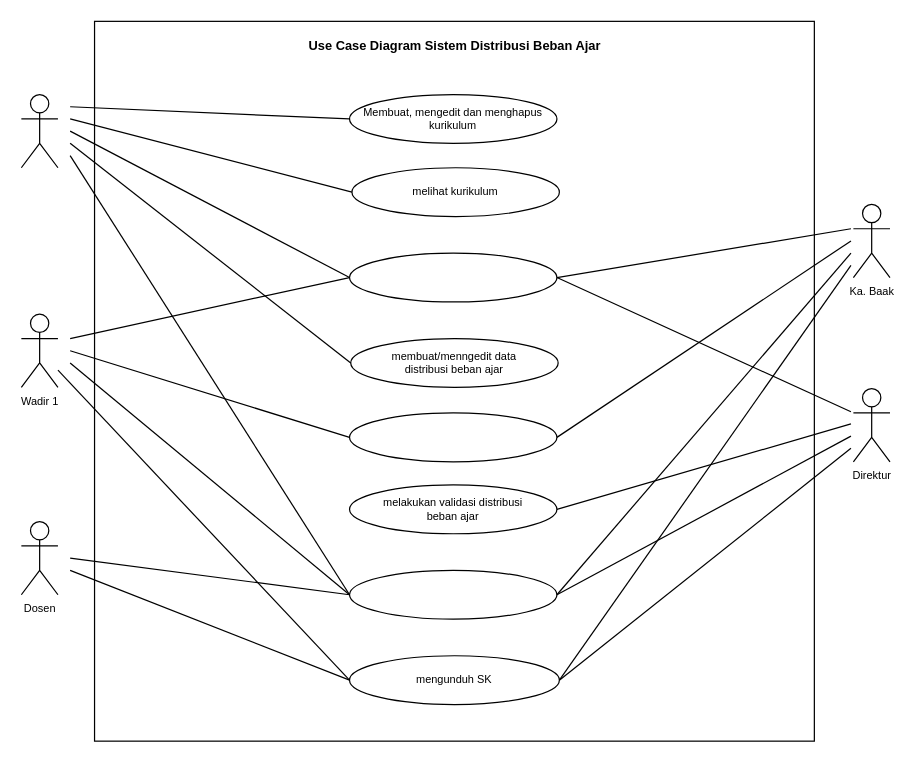
Image size: 915x763. Some labels were removed from this diagram. The centre of each missing label's shape, as x and y in pixels:
Kaprodi: point (39, 130)
melakukan verifikasi distribusi beban ajar: point (452, 437)
melihat data distribusi beban ajar: point (452, 277)
melihat hasil distribusi beban ajar: point (452, 594)
